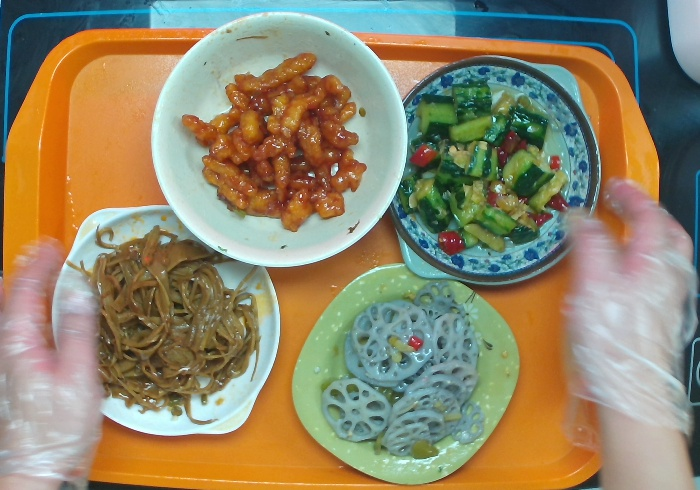NLDX-Bai_Se_Shuang_Er_Die: (46, 201, 285, 442)
NLDX-Bai_Se_Yuan_Wan: (148, 6, 410, 271)
NLDX-Lv_Hua_Fang_Die: (287, 261, 524, 490)
NLDX-Qing_Hua_Shuang_Er_Die: (383, 50, 602, 289)
